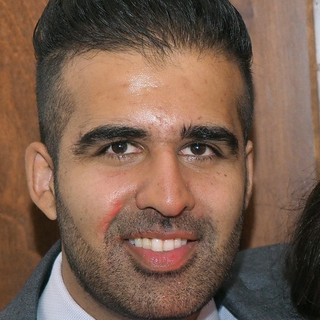eye: (93, 136, 144, 162), (178, 138, 226, 164)
